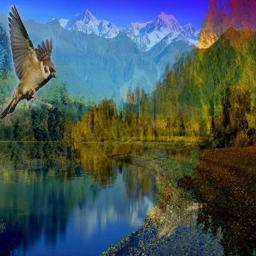Sparrow: (0, 5, 56, 125)
